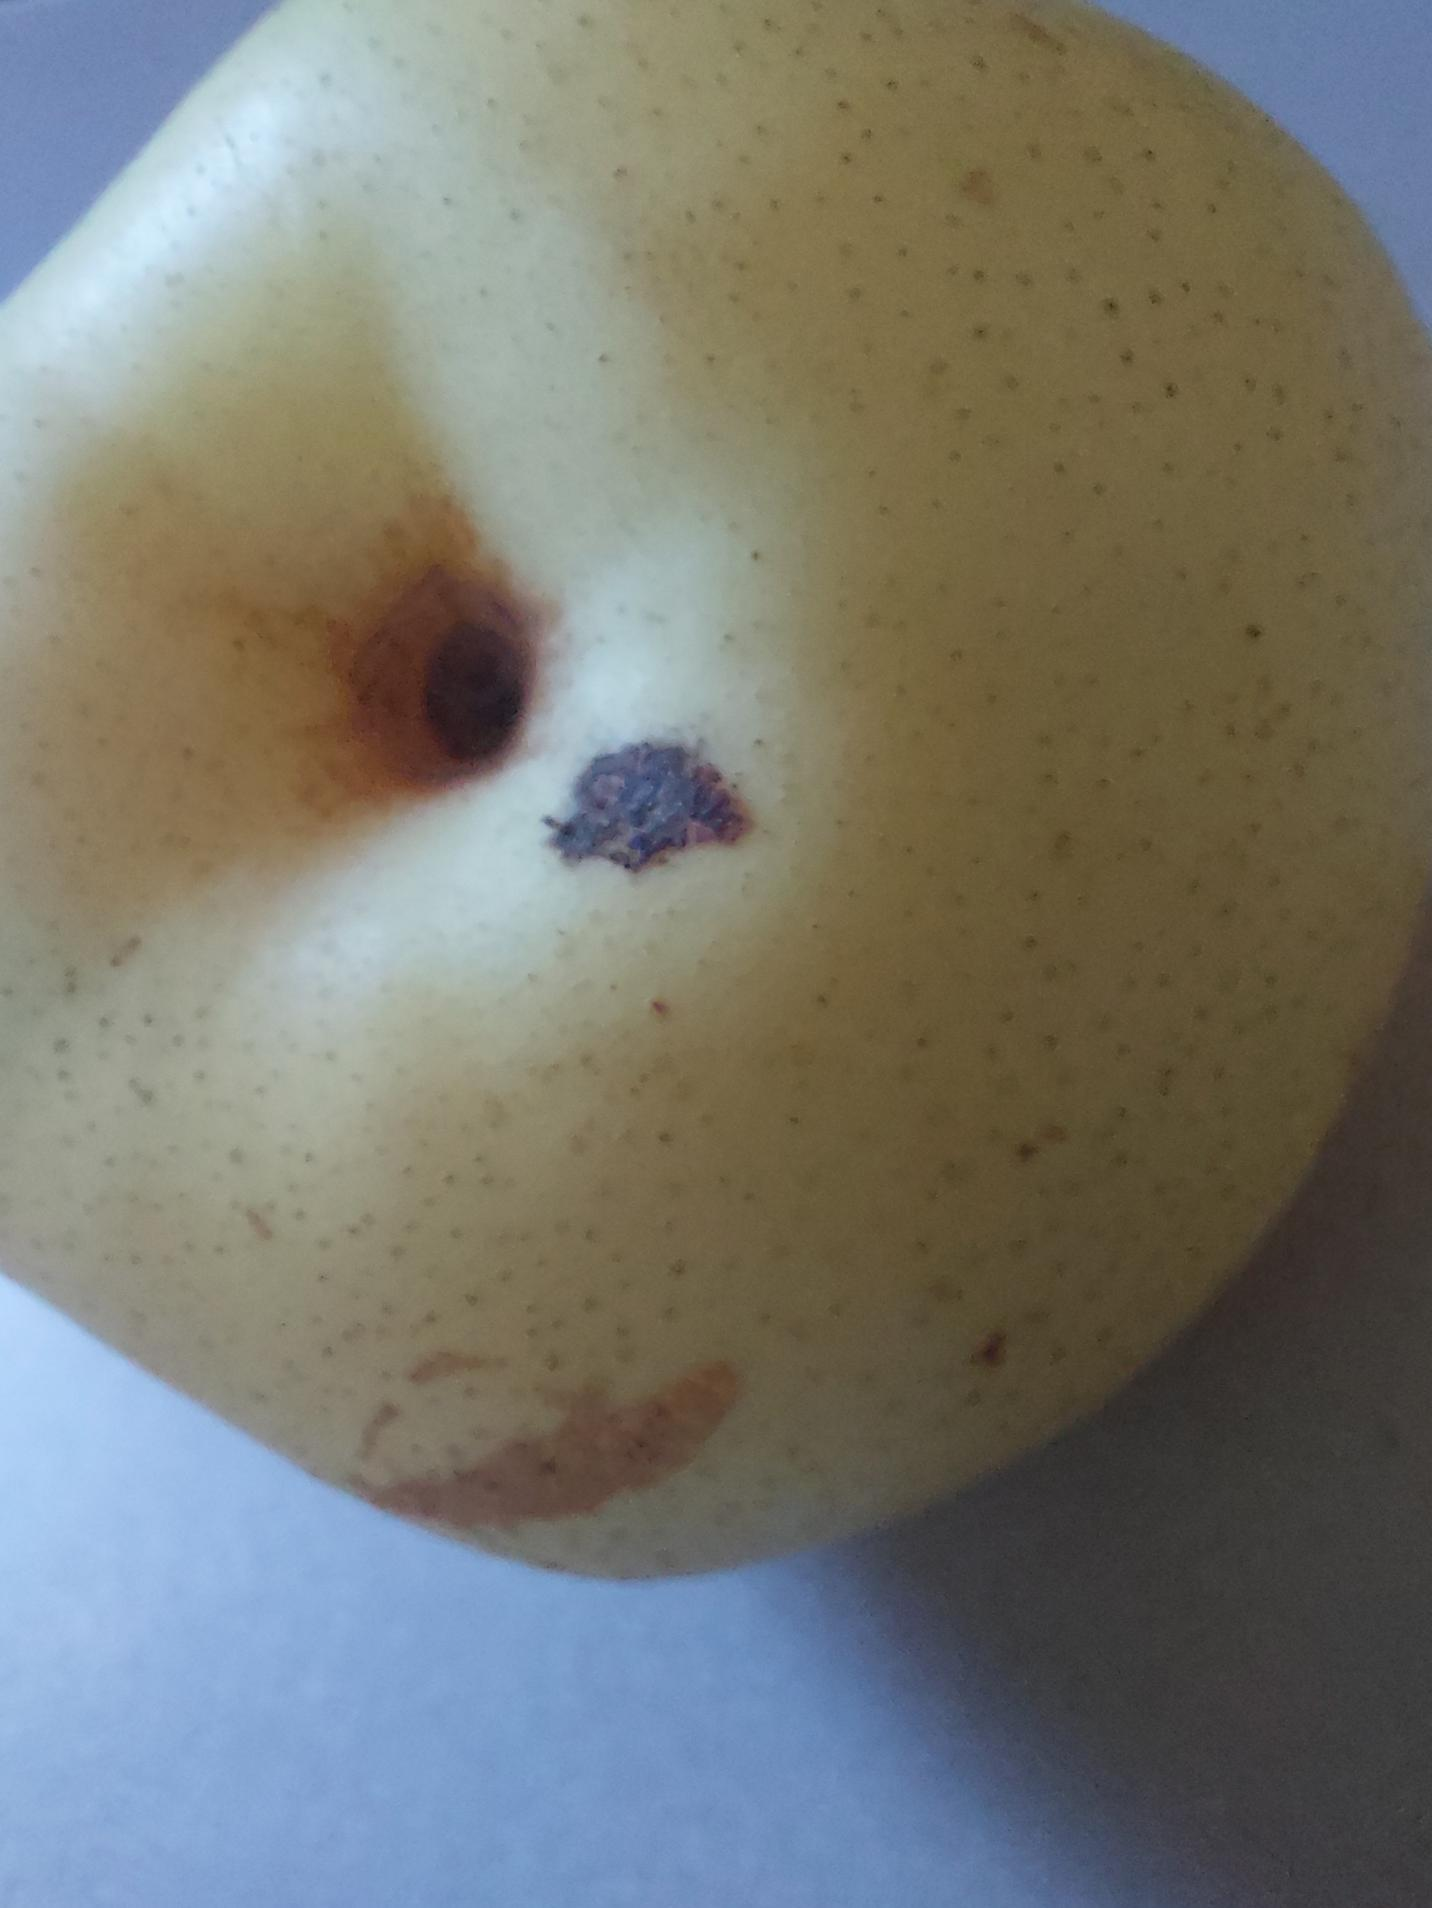Good Pear: (0, 0, 1432, 1627)
